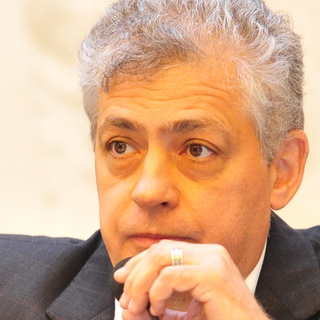eye: (178, 138, 224, 164), (99, 133, 142, 160)
